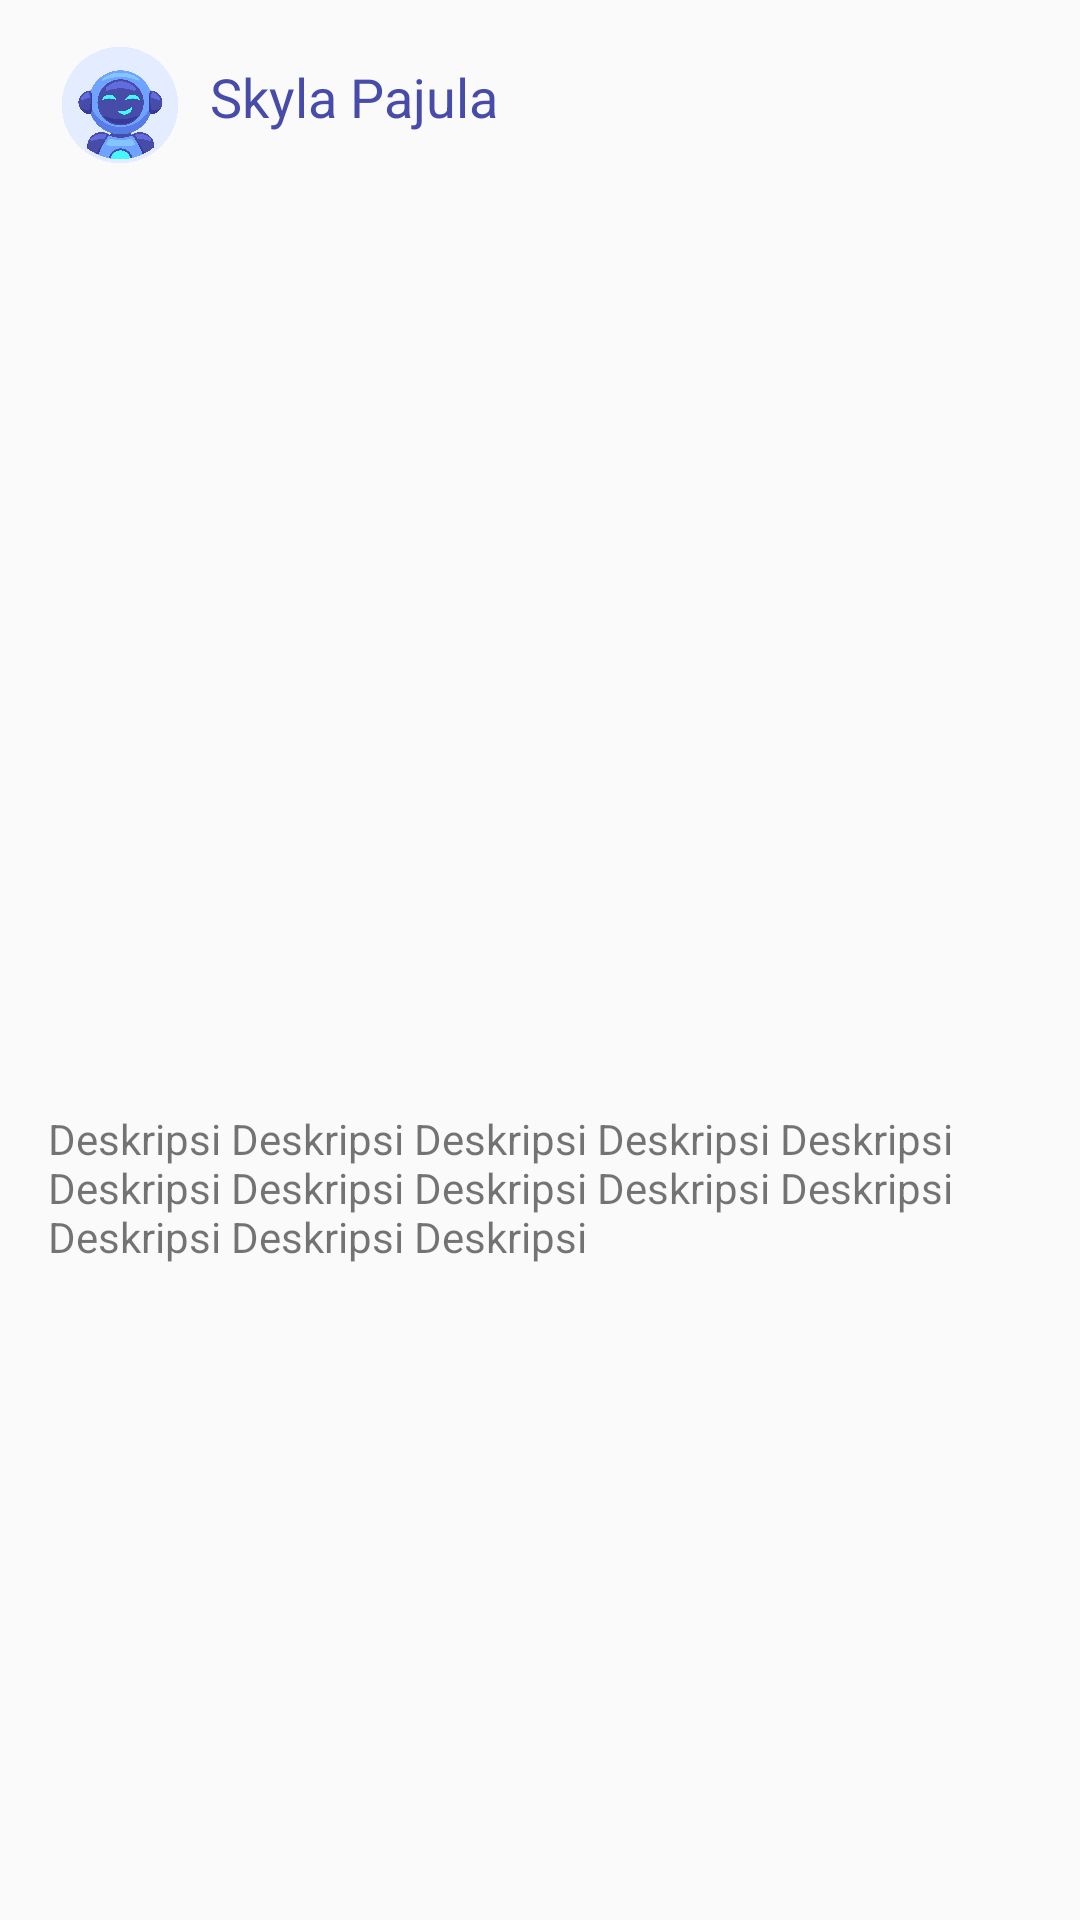

Icon click points for this 1080x1920 phone screenshot, format [x,y]:
Default Avatar Image: [120,114]
